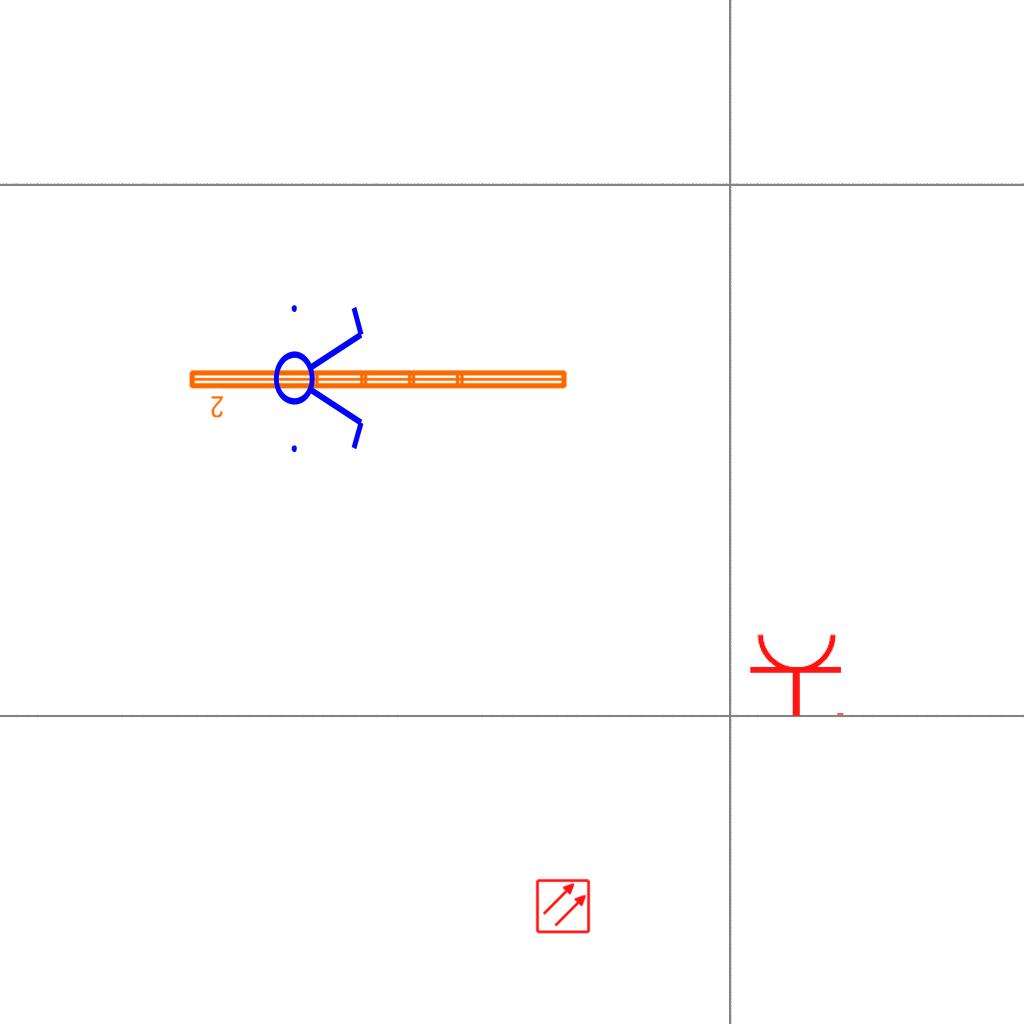Ambulanz_Pendelleuchte_LED: (185, 364, 572, 420)
RMO_Rauchmelder_optischer: (535, 878, 591, 934)
Schukosteckdose_einfach: (748, 631, 848, 718)
Serienschalter: (272, 293, 368, 461)
